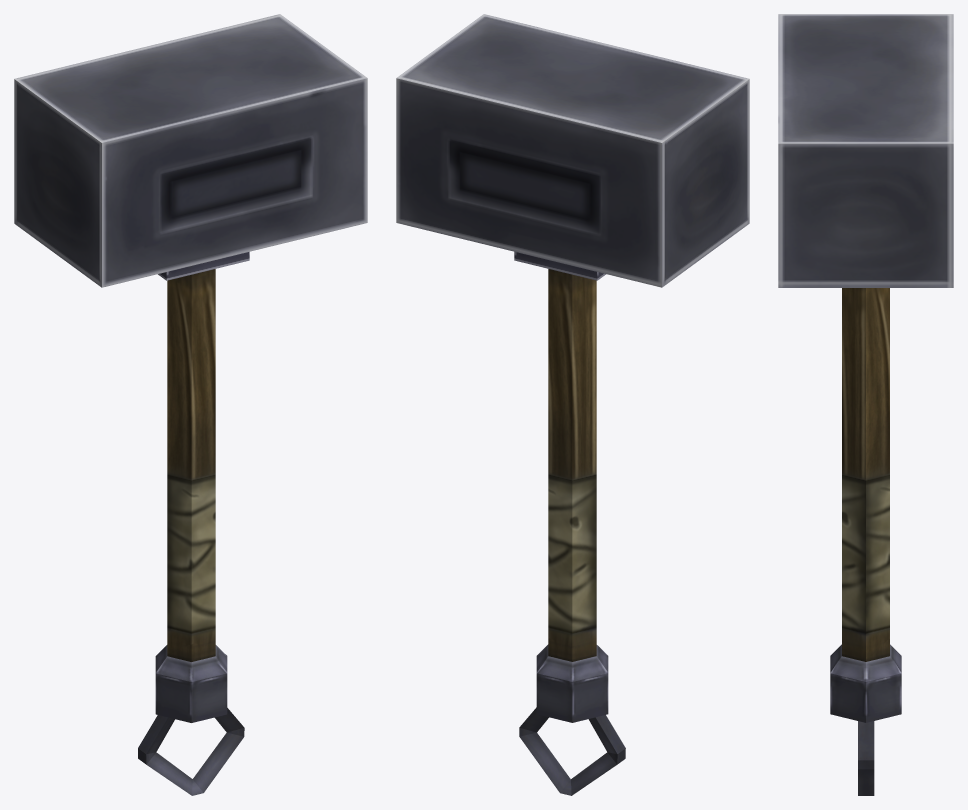
The model's file is hammer_lvl_02.fbx.
3 views of the same model, side by side, from view 1: azimuth 30°, elevation 25°; view 2: azimuth 150°, elevation 25°; view 3: azimuth 270°, elevation 25° (orthographic).
Parts seen in each view (by area): view 1: hammer_lvl_02; view 2: hammer_lvl_02; view 3: hammer_lvl_02.
Part boxes in pixels (x1,y1,x2,y2): hammer_lvl_02: (14, 14, 367, 795); hammer_lvl_02: (396, 14, 749, 795); hammer_lvl_02: (778, 14, 953, 795).
Size of the model in its own units: 2.44 by 6.27 by 1.4.
